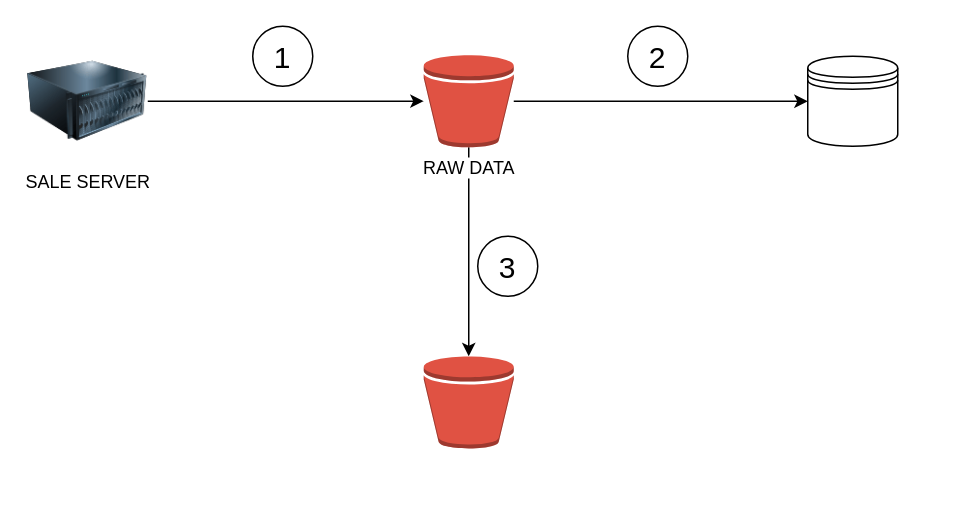
Image size: 960x506. Some labels were removed from this diagram. The shapes that lost their labels are listed below. From the top down, each one's box as (x1, y1, x2, y2) in pixels, then its label:
(806, 55, 898, 146): DATAWAREHOUSE
(422, 355, 514, 448): HIST DATA
